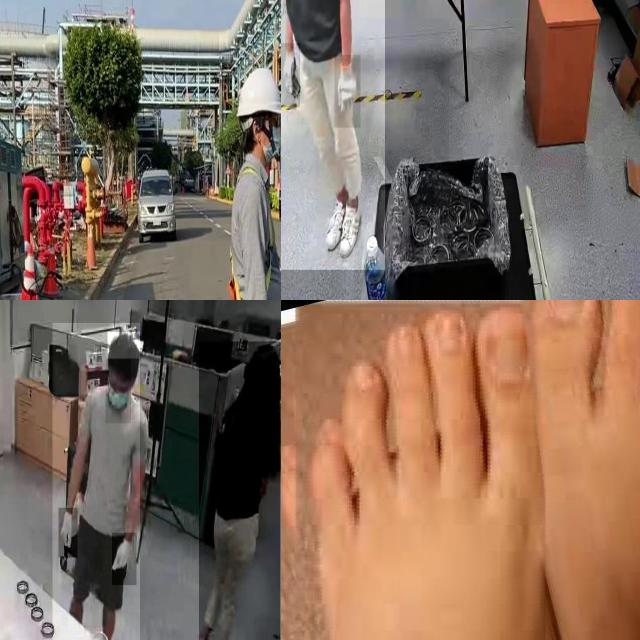Barefoots: (281, 300, 549, 640), (531, 300, 640, 640)
face_mask: (105, 359, 131, 424)
hand_glove: (335, 54, 361, 128), (112, 533, 137, 586), (281, 43, 300, 108), (58, 508, 78, 558)
head_nohelmet: (243, 342, 280, 368), (108, 332, 140, 359)
person: (281, 0, 385, 270), (52, 322, 140, 640), (199, 341, 280, 640)
shoes: (335, 198, 363, 258), (321, 190, 345, 254)
